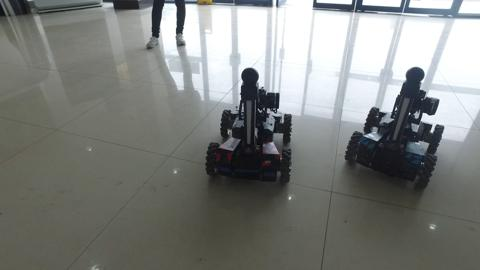chariot: (340, 62, 447, 195), (202, 68, 298, 190)
